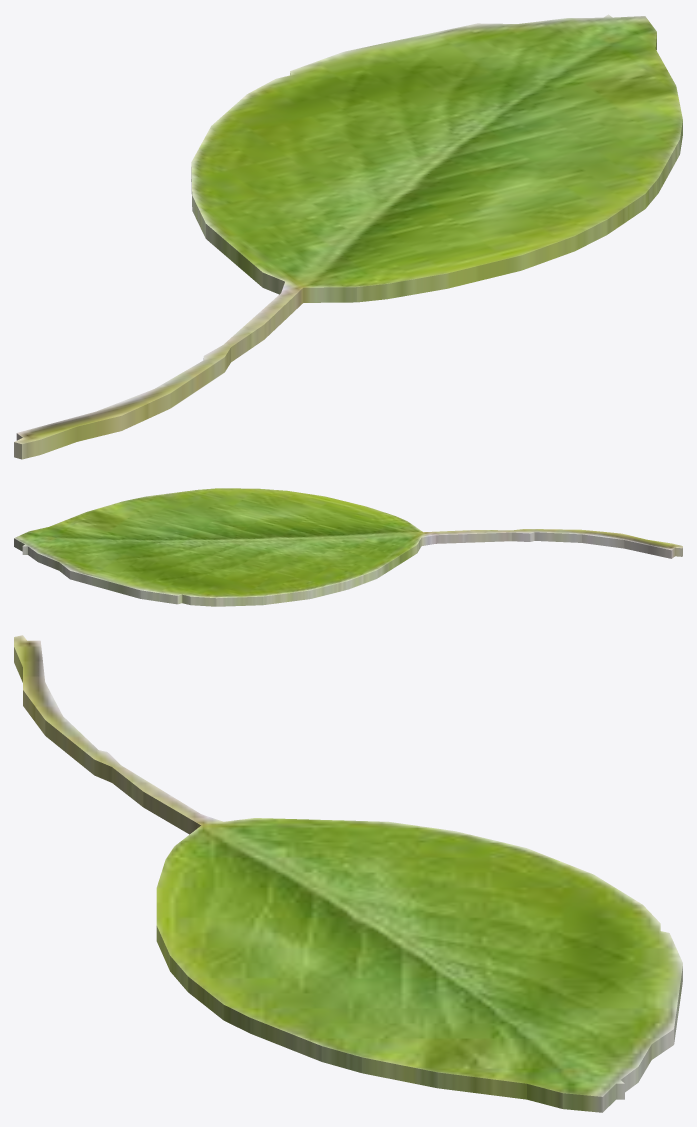
File: Leaf.fbx
3 views of the same model, one above another, from view 1: azimuth 30°, elevation 25°; view 2: azimuth 150°, elevation 25°; view 3: azimuth 270°, elevation 25° (orthographic). The views are drawn at different scales.
Parts seen in each view (by area): view 1: node_id3; view 2: node_id3; view 3: node_id3.
Part boxes in pixels (x1,y1,x2,y2): node_id3: (14,14,682,459); node_id3: (14,488,682,606); node_id3: (14,635,682,1112).
Bounding box in the file's own units: 0.512 × 0.00823 × 0.3135.
Materials: 1 (1 with a texture image).
